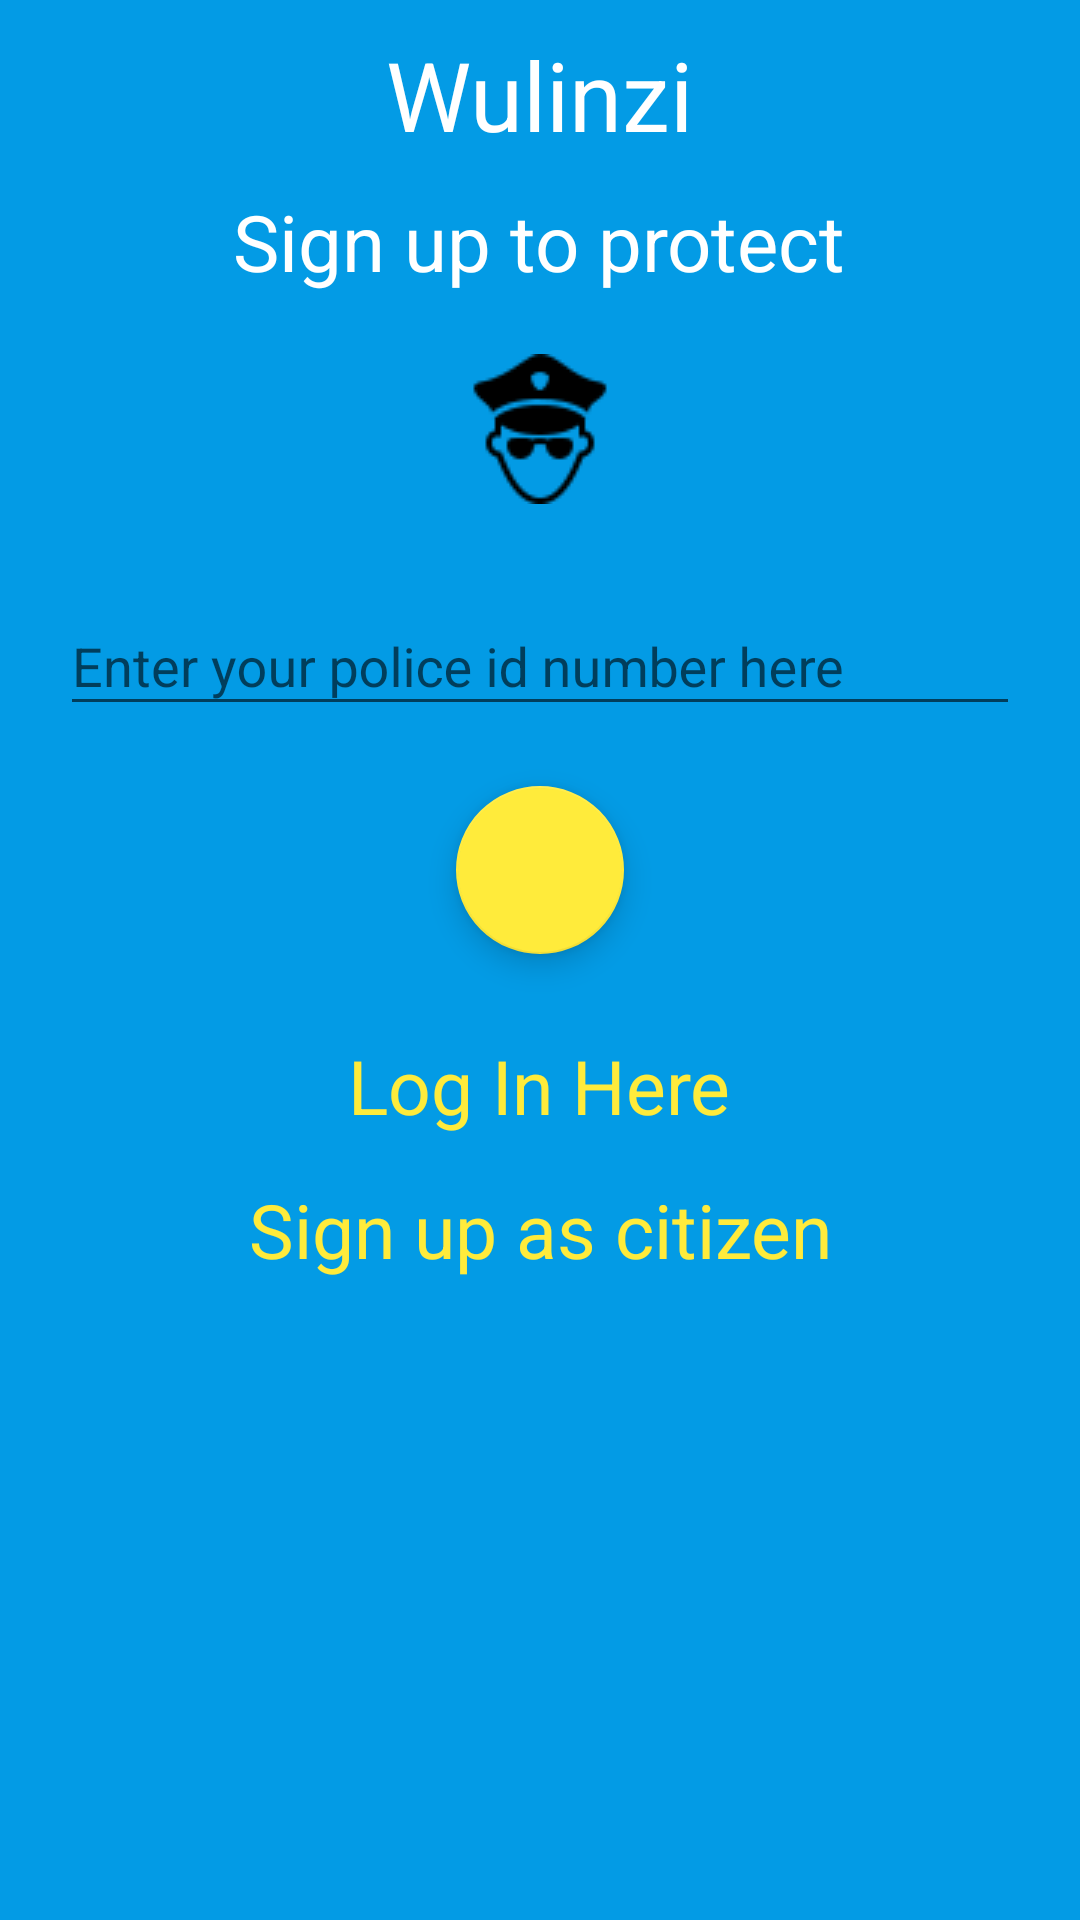

Icon click points for this 1080×1920 phone screenshot, format point (x, y):
police man: point (540, 429)
